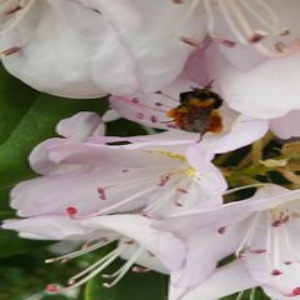bee: (177, 82, 223, 139)
